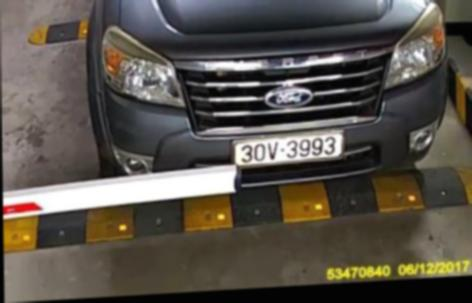License_Plate: (228, 124, 348, 170)
